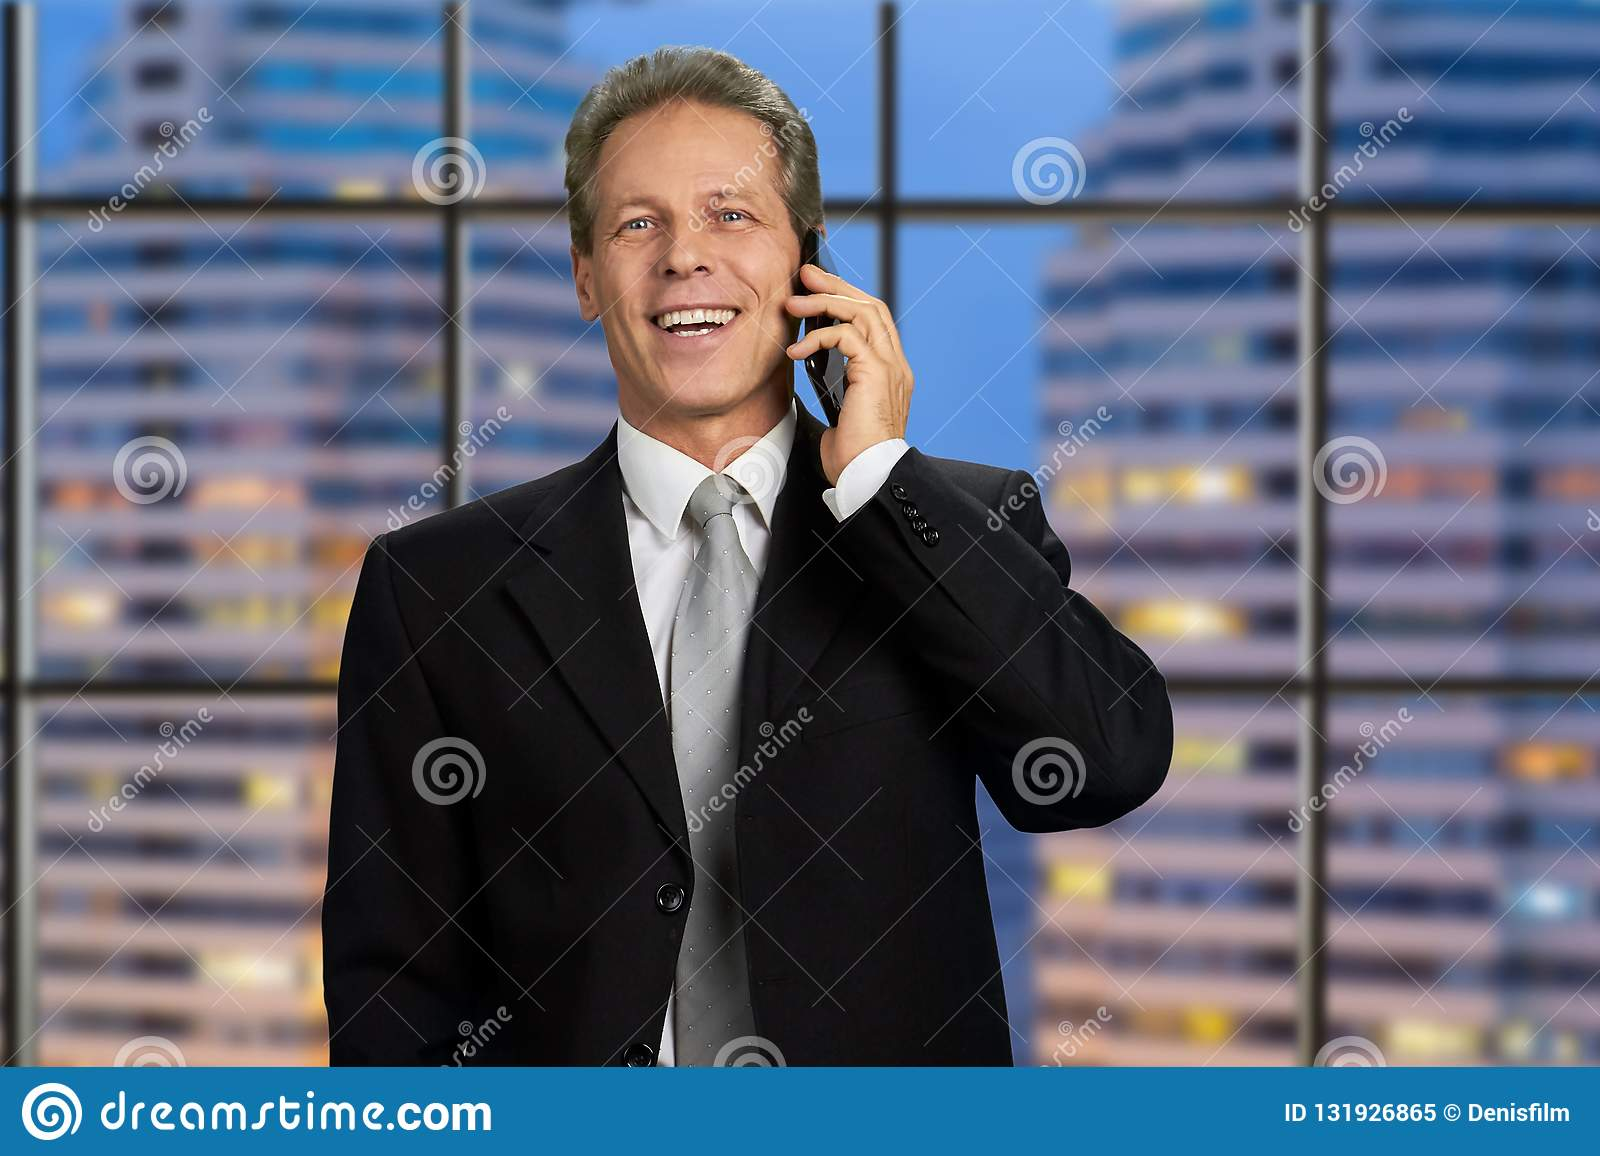phone: (799, 226, 853, 441)
talk: (602, 171, 916, 485)
